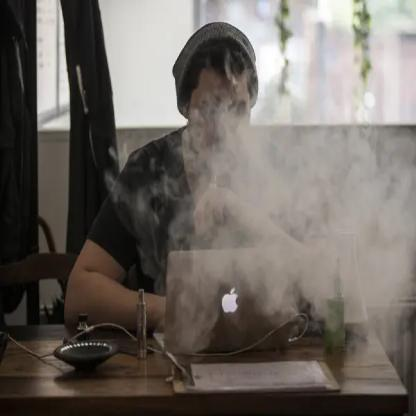smoke: (158, 0, 416, 377)
